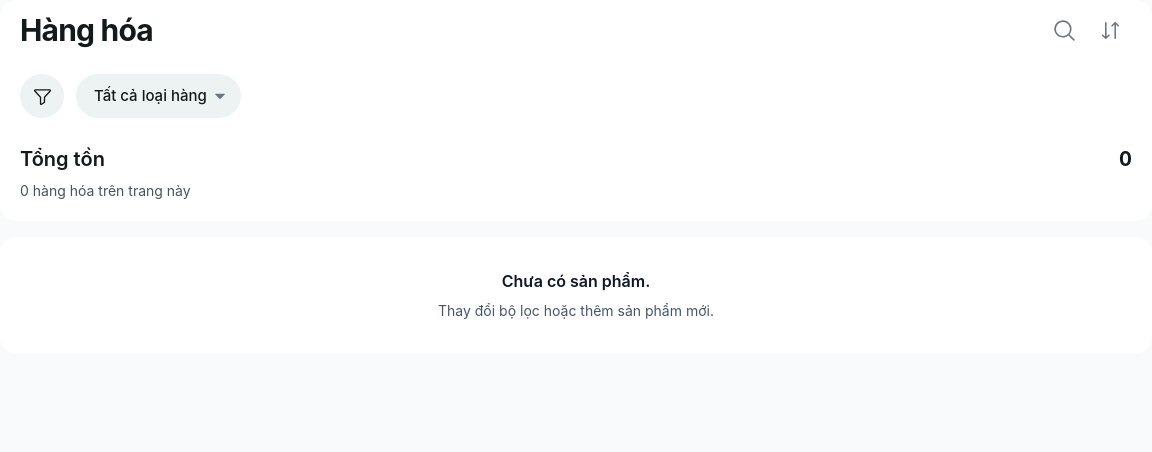
ProductListPage › keeps an applied search visible when closed and lets the user clear it
Check: the text "Chưa có sản phẩm." is shown, box left=502, top=271, right=650, bottom=291
Click the button named "Mở tìm kiếm".
click(1064, 30)  # box left=1042, top=8, right=1086, bottom=52
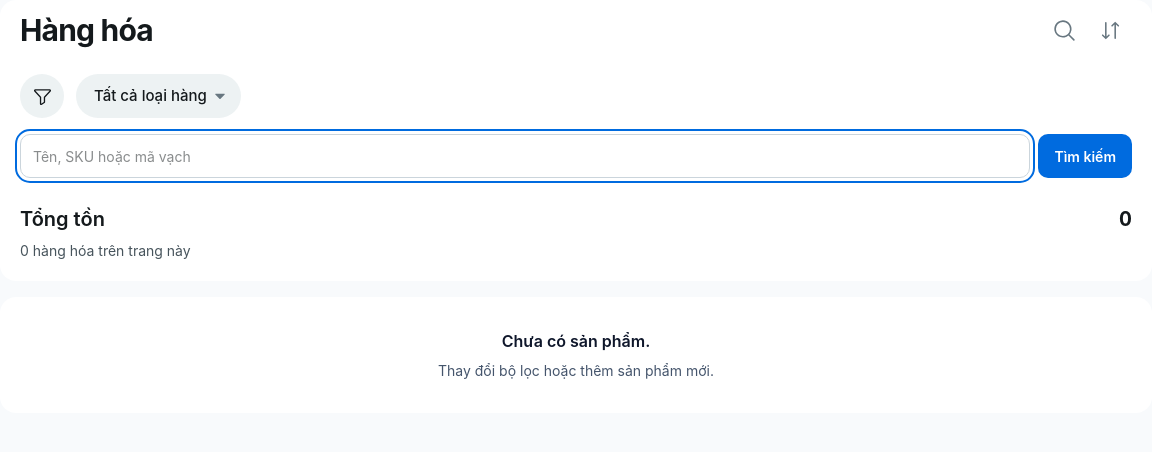
Type "SP527986" into the field named "Tìm sản phẩm".
click(525, 156); type("SP527986")  # box left=20, top=134, right=1030, bottom=178
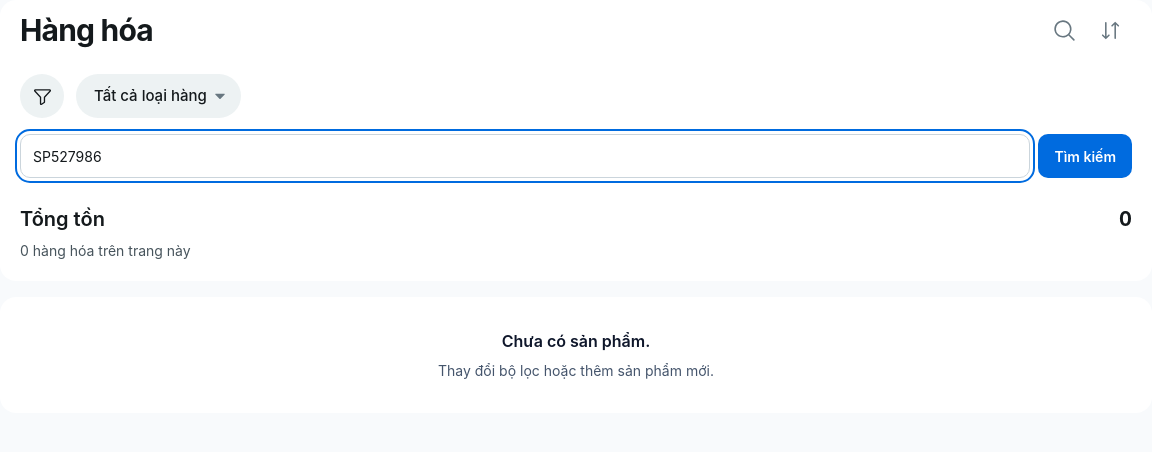
Click the button "Tìm kiếm".
click(1085, 156)  # box left=1038, top=134, right=1132, bottom=178
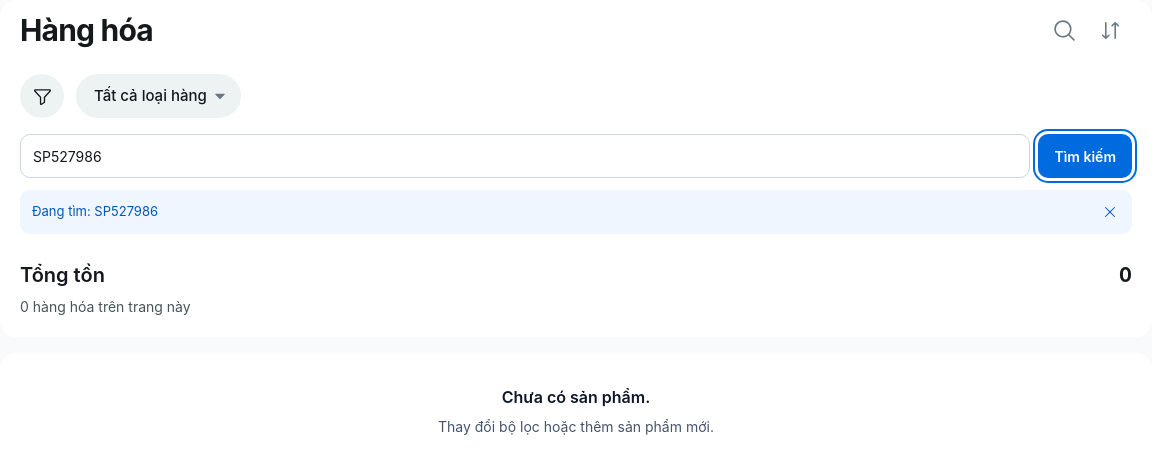
Click the button named "Đóng tìm kiếm".
click(1064, 30)  # box left=1042, top=8, right=1086, bottom=52
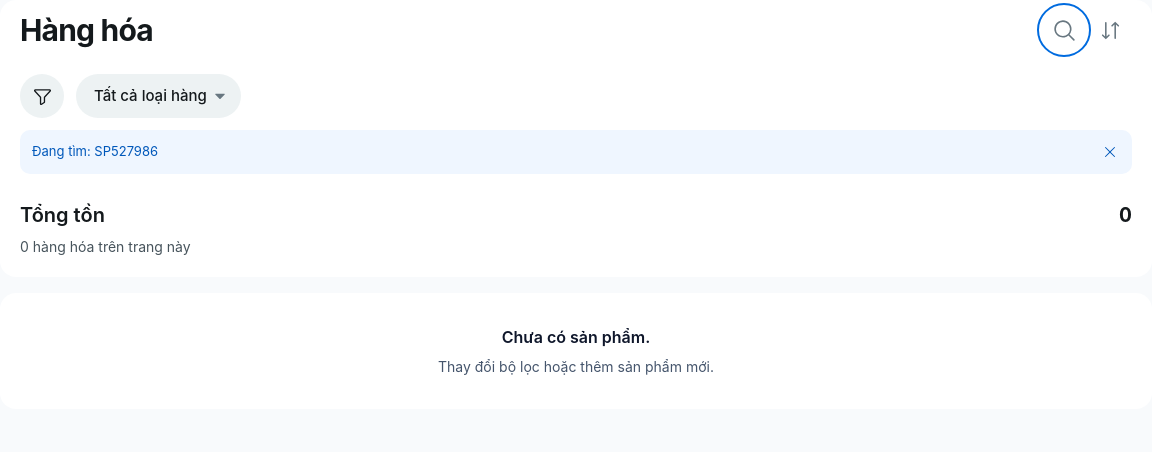
Check: the text "Đang tìm: SP527986" is shown, box left=32, top=142, right=158, bottom=162
Click the button named "Xóa tìm kiếm đang áp dụng".
click(1110, 152)  # box left=1088, top=130, right=1132, bottom=174
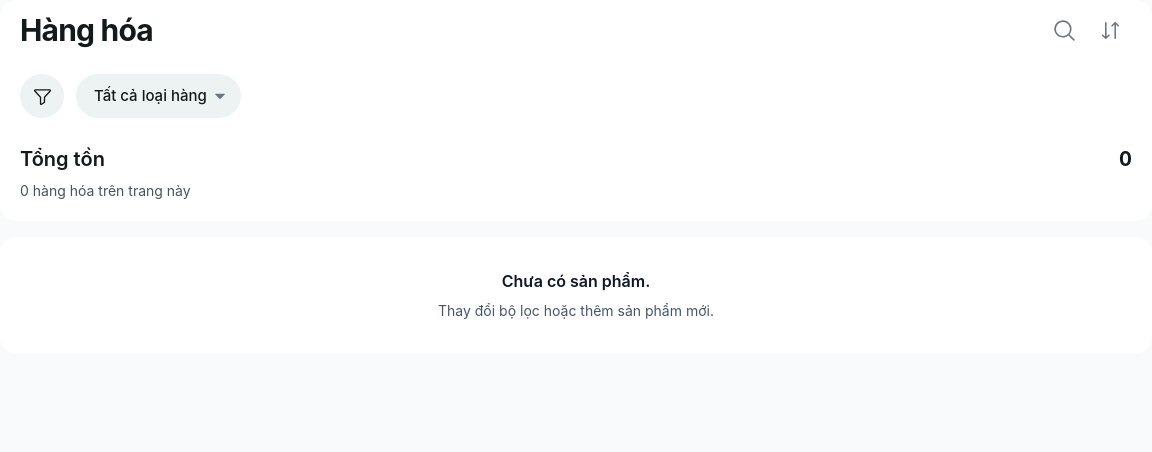
Check: the text "Đang tìm: SP527986" is gone
